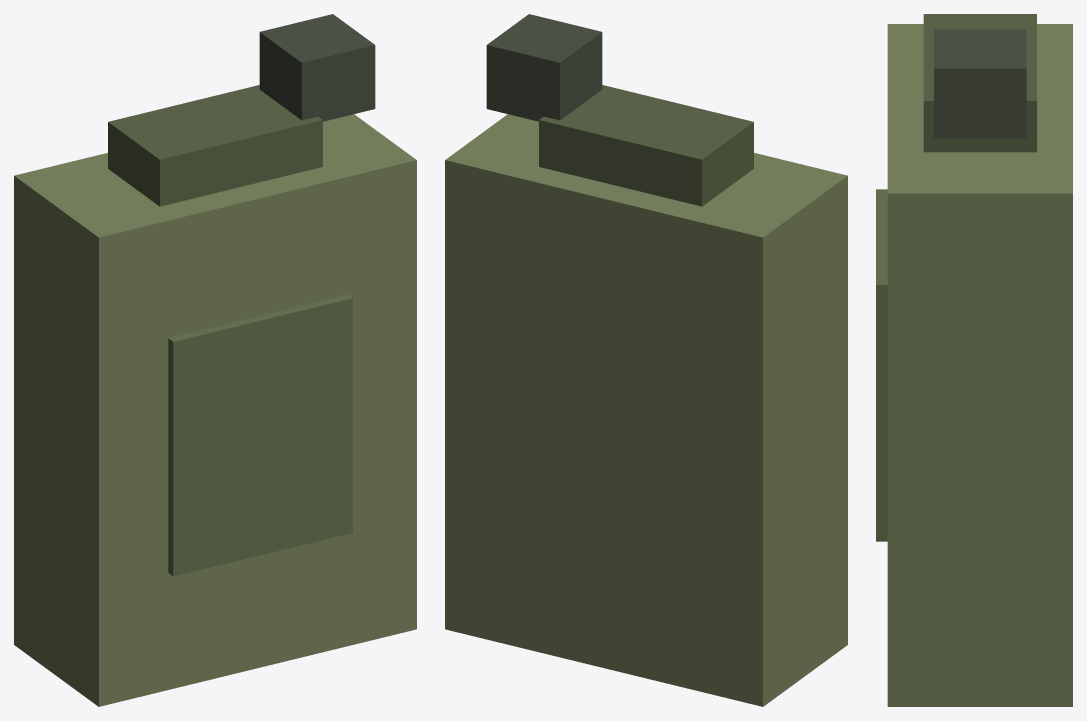
The model's file is fuel.gltf.
3 views of the same model, side by side, from view 1: azimuth 30°, elevation 25°; view 2: azimuth 150°, elevation 25°; view 3: azimuth 270°, elevation 25° (orthographic). The views are drawn at different scales.
Bounding box in the file's own units: 0.78 × 1.35 × 0.3825.
